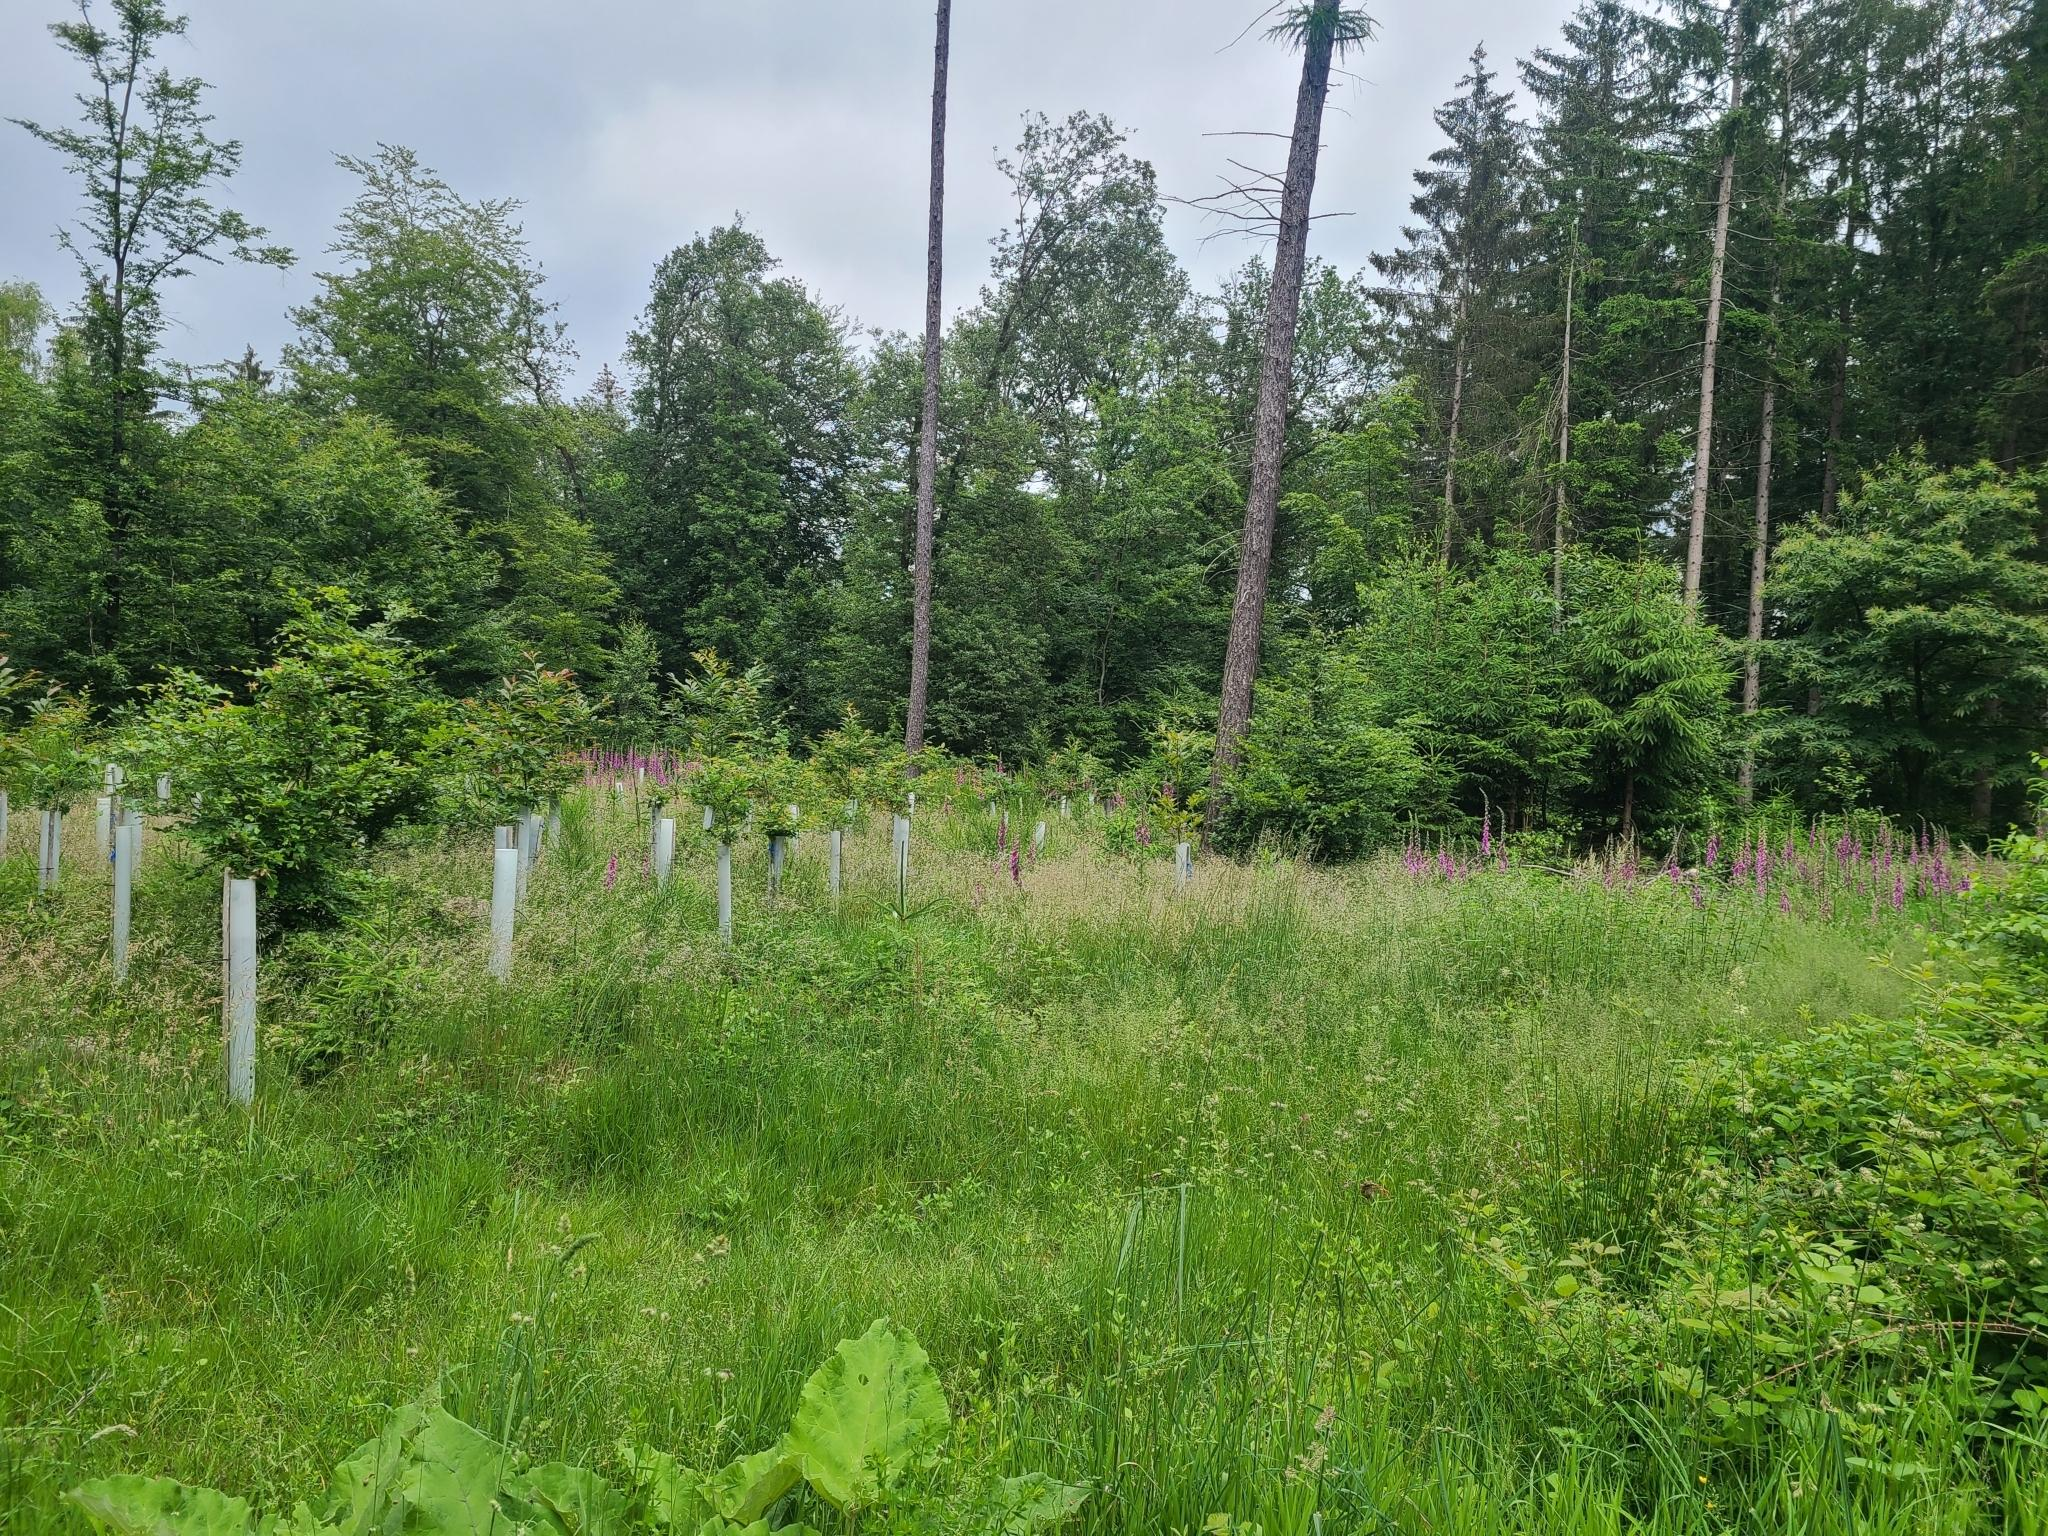Digitalis L: (1732, 833, 1979, 920), (1400, 808, 1516, 904), (1603, 844, 1709, 913), (582, 742, 697, 800), (992, 815, 1050, 920), (598, 845, 629, 913)
